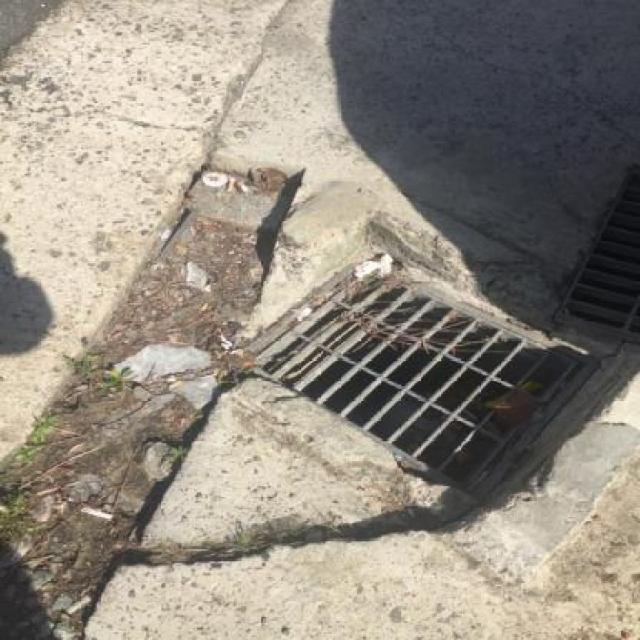drain-clean-: (242, 268, 578, 474)
